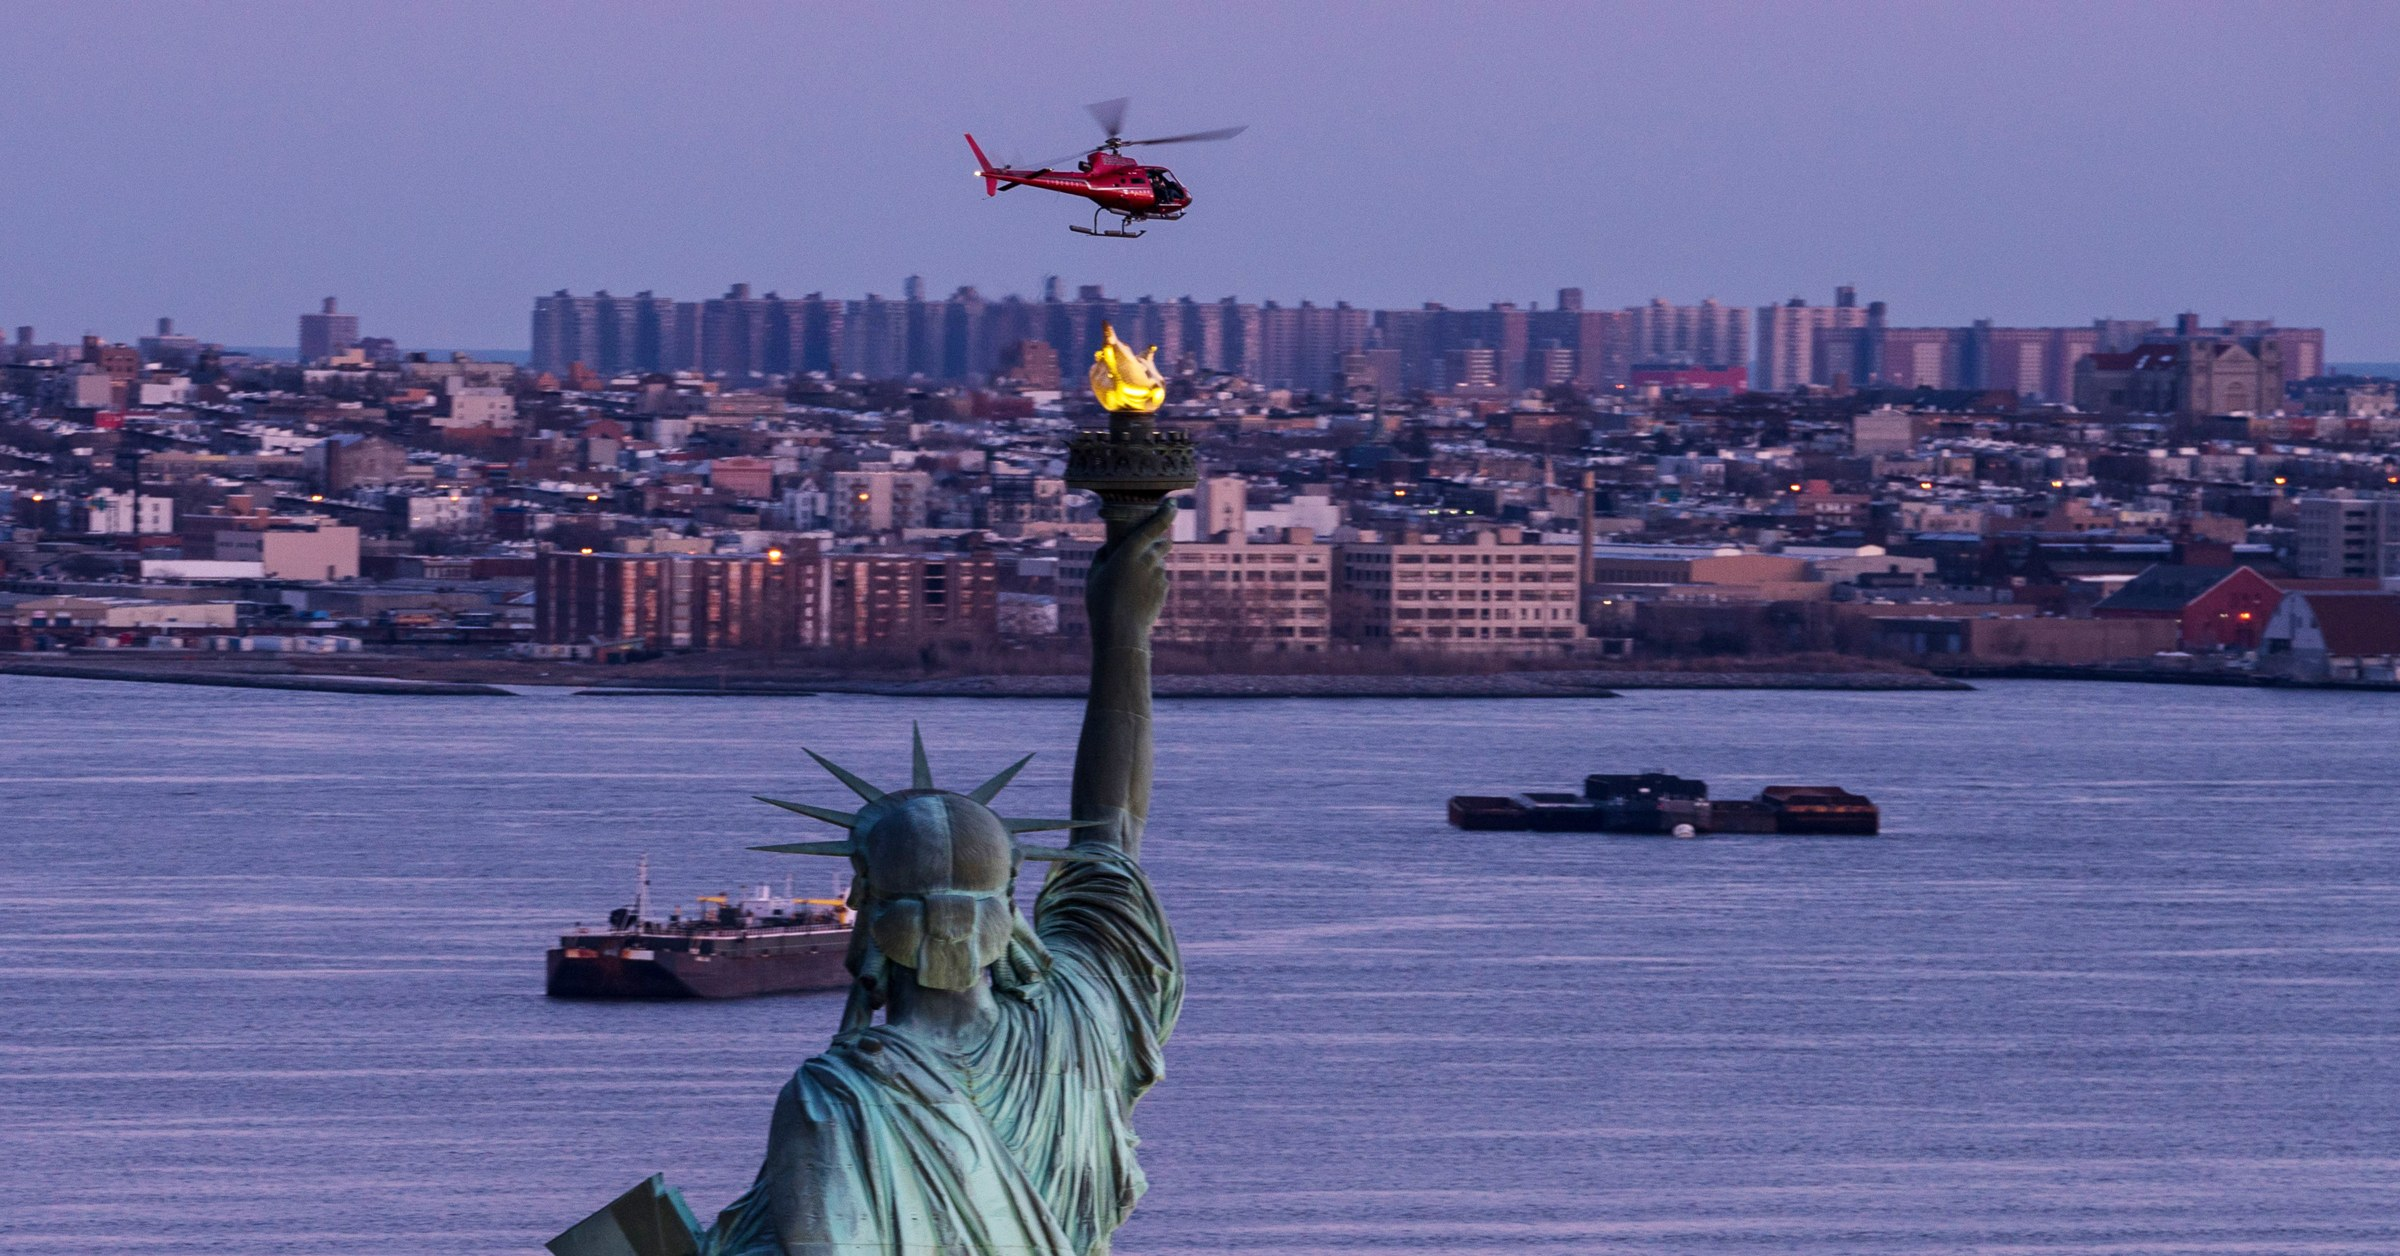Helicopter: (973, 86, 1267, 252)
